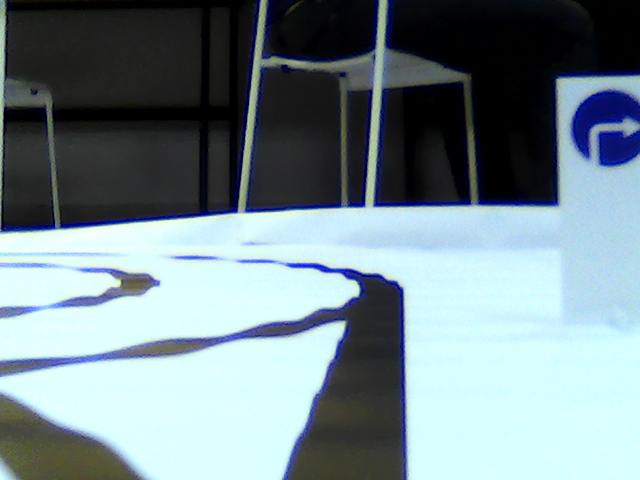Right: (569, 91, 640, 164)
